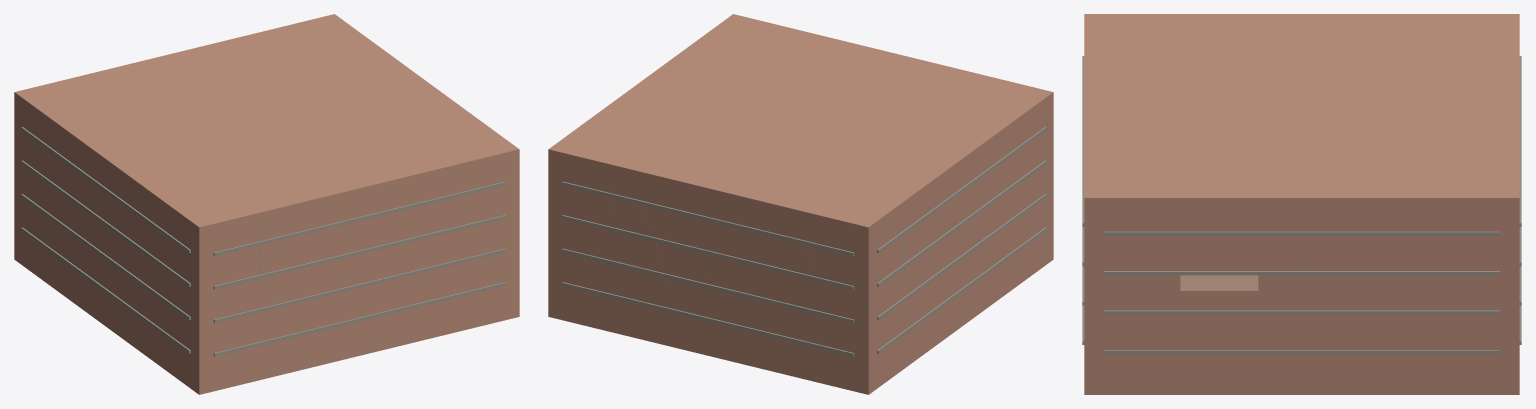
Rendered from mod_wall_brick.glb.
The picture shows the model from 3 angles, left to right: view 1: azimuth 30°, elevation 25°; view 2: azimuth 150°, elevation 25°; view 3: azimuth 270°, elevation 25°; orthographic projection. The views are drawn at different scales.
Parts seen in each view (by area): view 1: module_brick_wall_block_core_2m, brick_back_horizontal_mortar_0, brick_back_horizontal_mortar_1, brick_back_horizontal_mortar_2, brick_back_horizontal_mortar_3, brick_left_horizontal_mortar_2, brick_left_horizontal_mortar_1, brick_left_horizontal_mortar_0, brick_left_horizontal_mortar_3; view 2: module_brick_wall_block_core_2m, brick_front_horizontal_mortar_0, brick_front_horizontal_mortar_1, brick_front_horizontal_mortar_2, brick_front_horizontal_mortar_3, brick_left_horizontal_mortar_2, brick_left_horizontal_mortar_1, brick_left_horizontal_mortar_0, brick_left_horizontal_mortar_3; view 3: module_brick_wall_block_core_2m, brick_right_horizontal_mortar_0, brick_right_horizontal_mortar_1, brick_right_horizontal_mortar_2, brick_right_horizontal_mortar_3, brick_chipped_side_patch, brick_front_horizontal_mortar_3, brick_back_horizontal_mortar_3.
Part boxes in pixels (x1,y1,x2,y2): module_brick_wall_block_core_2m: (14, 14, 519, 394); brick_back_horizontal_mortar_0: (213, 282, 505, 356); brick_back_horizontal_mortar_1: (213, 248, 505, 323); brick_back_horizontal_mortar_2: (213, 215, 505, 289); brick_back_horizontal_mortar_3: (213, 181, 505, 255); brick_left_horizontal_mortar_2: (21, 160, 190, 286); brick_left_horizontal_mortar_1: (21, 194, 190, 320); brick_left_horizontal_mortar_0: (21, 227, 190, 353); brick_left_horizontal_mortar_3: (21, 127, 190, 253); module_brick_wall_block_core_2m: (548, 14, 1053, 394); brick_front_horizontal_mortar_0: (562, 282, 854, 356); brick_front_horizontal_mortar_1: (562, 248, 854, 323); brick_front_horizontal_mortar_2: (562, 215, 854, 289); brick_front_horizontal_mortar_3: (562, 181, 854, 255); brick_left_horizontal_mortar_2: (877, 160, 1046, 286); brick_left_horizontal_mortar_1: (877, 194, 1046, 320); brick_left_horizontal_mortar_0: (877, 227, 1046, 353); brick_left_horizontal_mortar_3: (877, 127, 1046, 253); module_brick_wall_block_core_2m: (1084, 14, 1519, 394); brick_right_horizontal_mortar_0: (1104, 350, 1499, 354); brick_right_horizontal_mortar_1: (1104, 310, 1499, 314); brick_right_horizontal_mortar_2: (1104, 271, 1499, 275); brick_right_horizontal_mortar_3: (1104, 231, 1499, 235); brick_chipped_side_patch: (1180, 275, 1258, 290); brick_front_horizontal_mortar_3: (1519, 56, 1521, 226); brick_back_horizontal_mortar_3: (1082, 56, 1084, 226).
Size of the model in its own units: 2.02 by 1 by 2.02.
